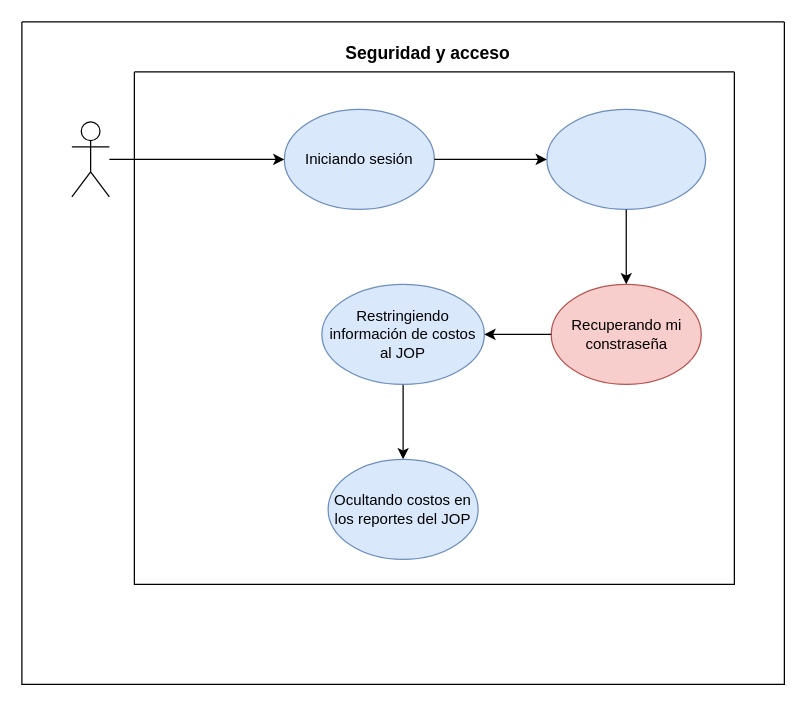
Some shapes in this 806 by 706 pixel diagram are drawn without their labels. Each missing label, with the box of its shape:
JOP: (71, 121, 109, 197)
Validando la identidad del usuario: (546, 108, 706, 209)
